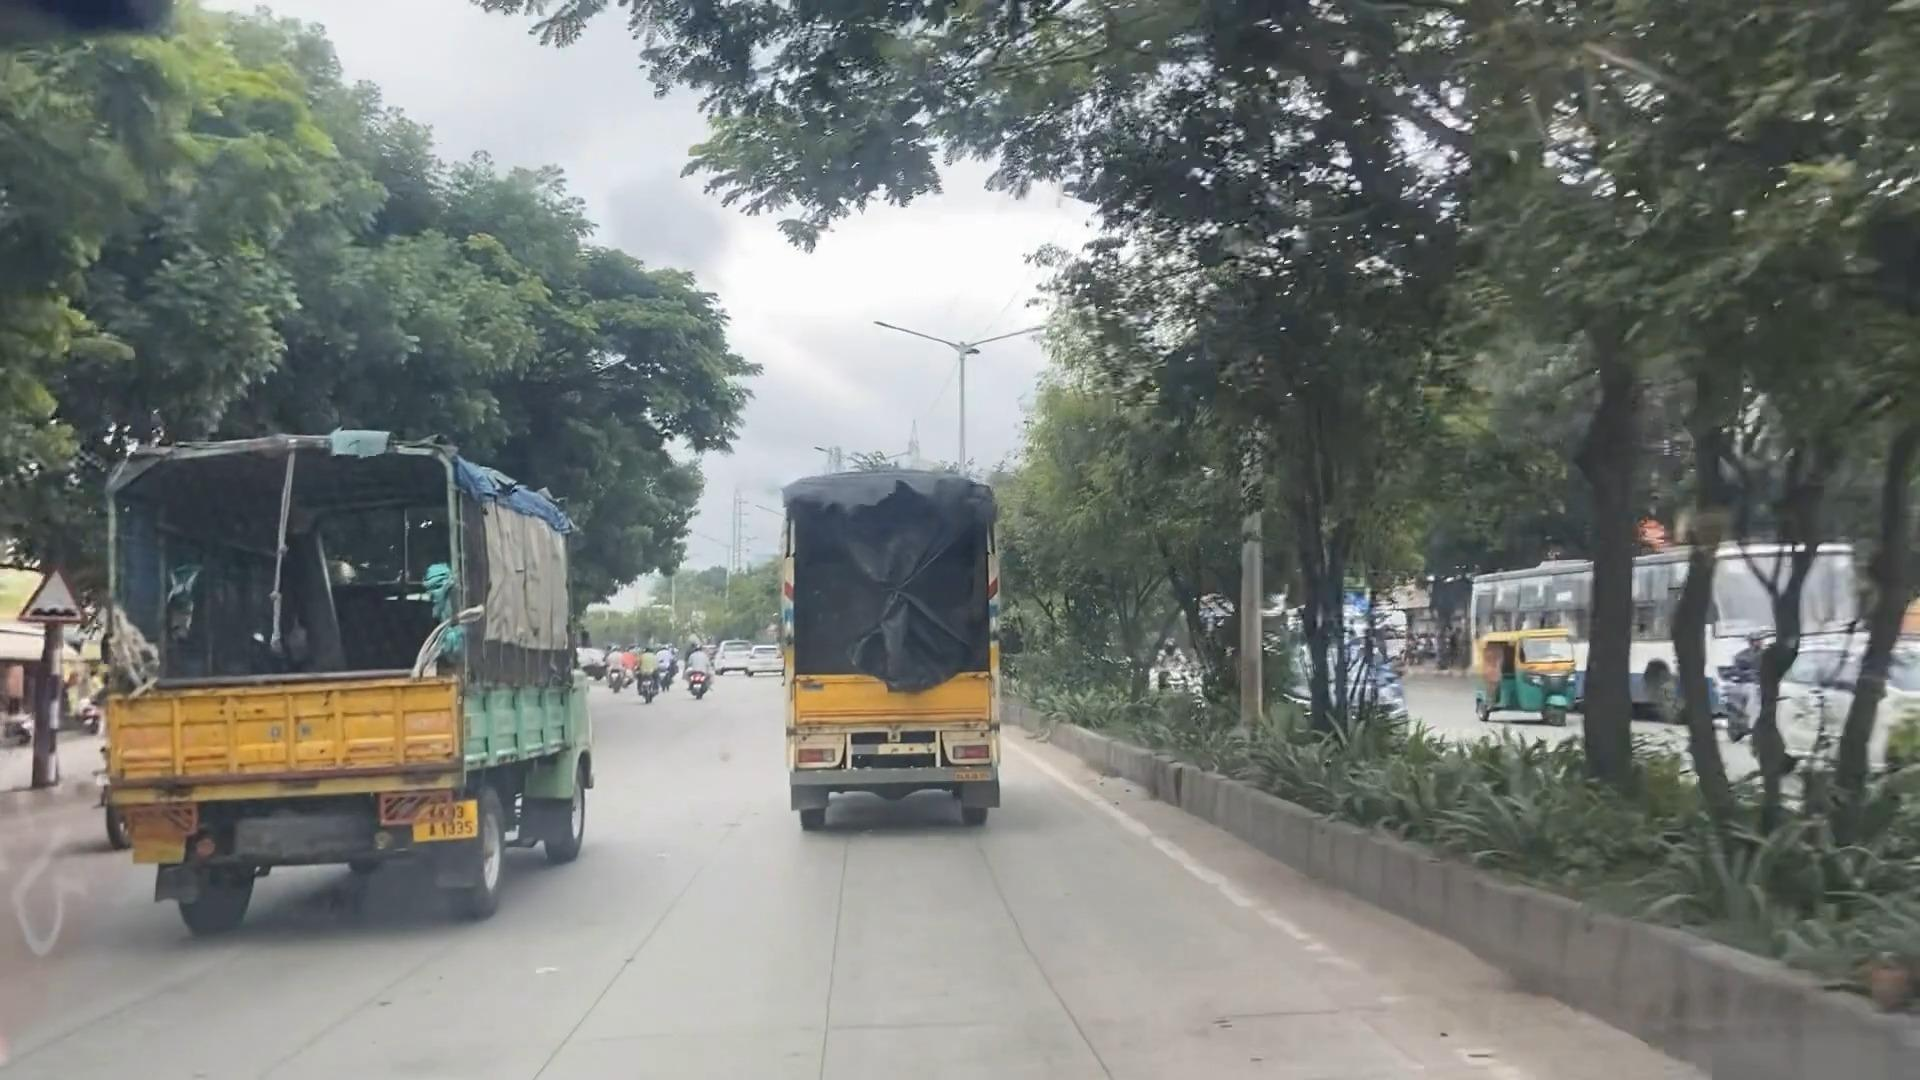HMV: (94, 415, 615, 947), (746, 381, 1046, 893)
